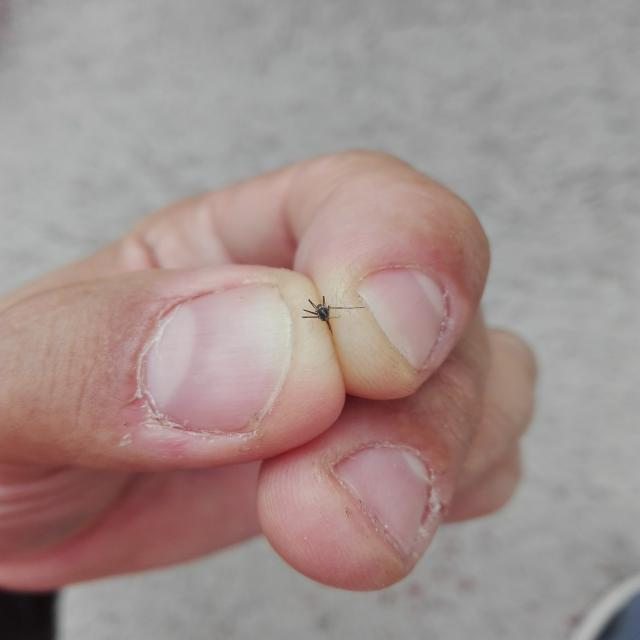albopictus: (291, 285, 368, 337)
